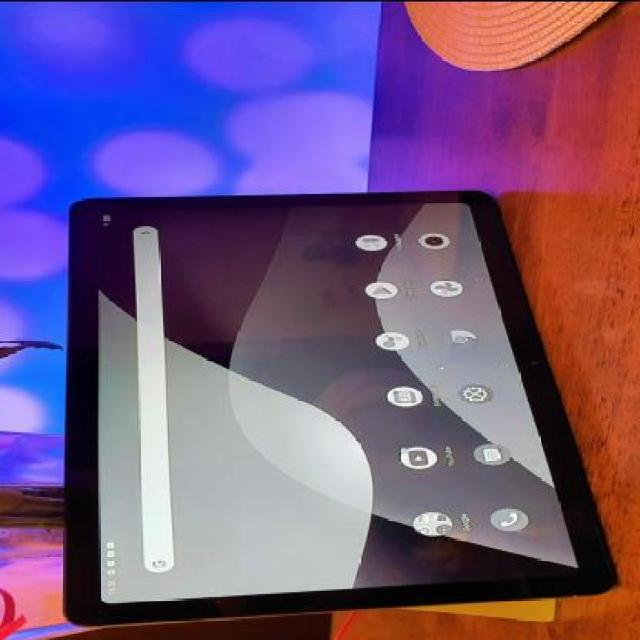tablet: (25, 184, 612, 633)
